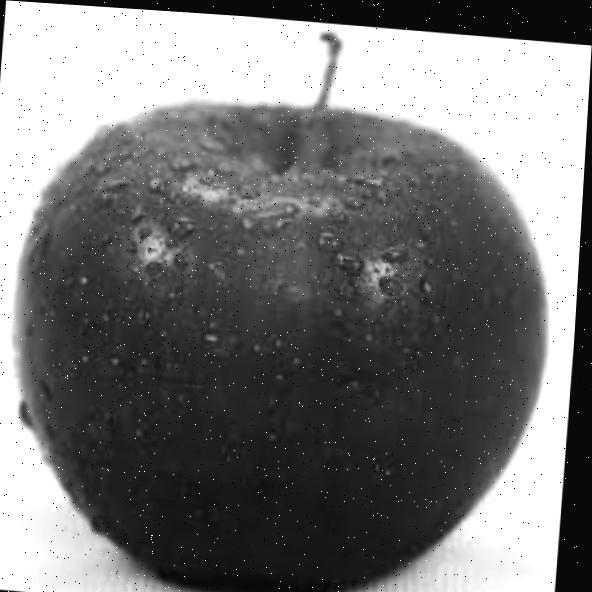HEALTHY: (0, 29, 572, 592)
